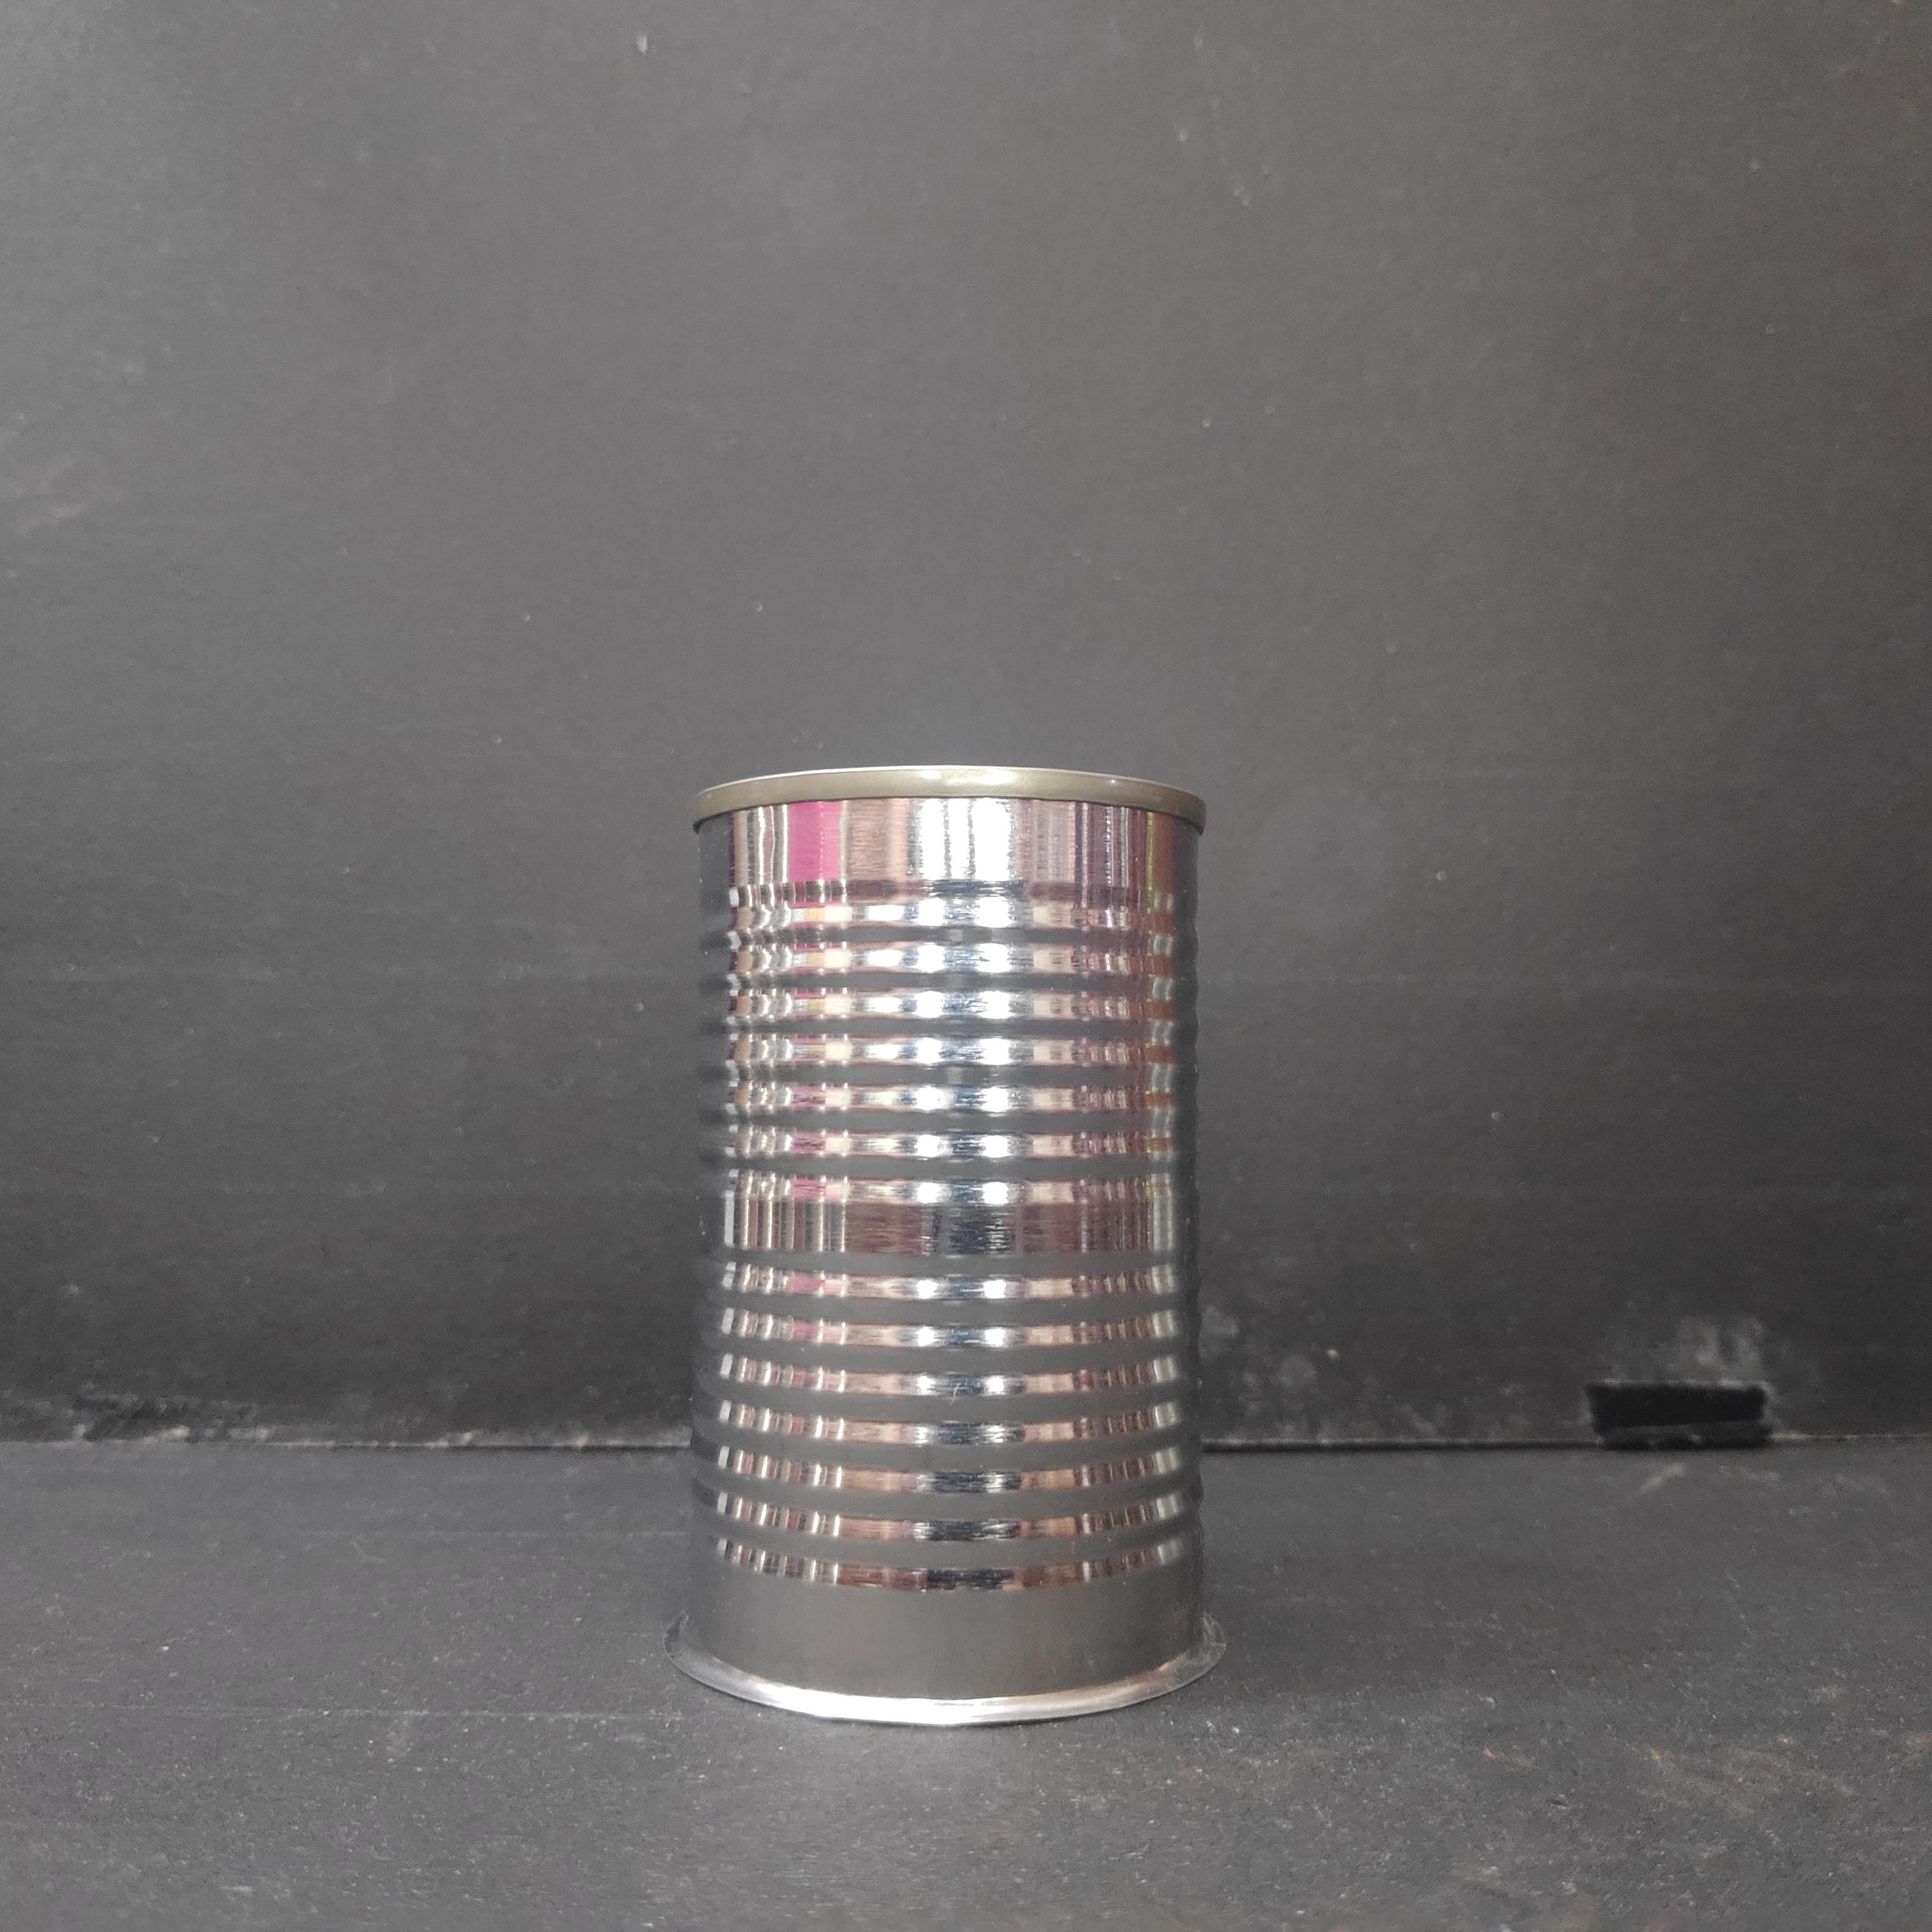No defect: (661, 763, 1230, 1730)
